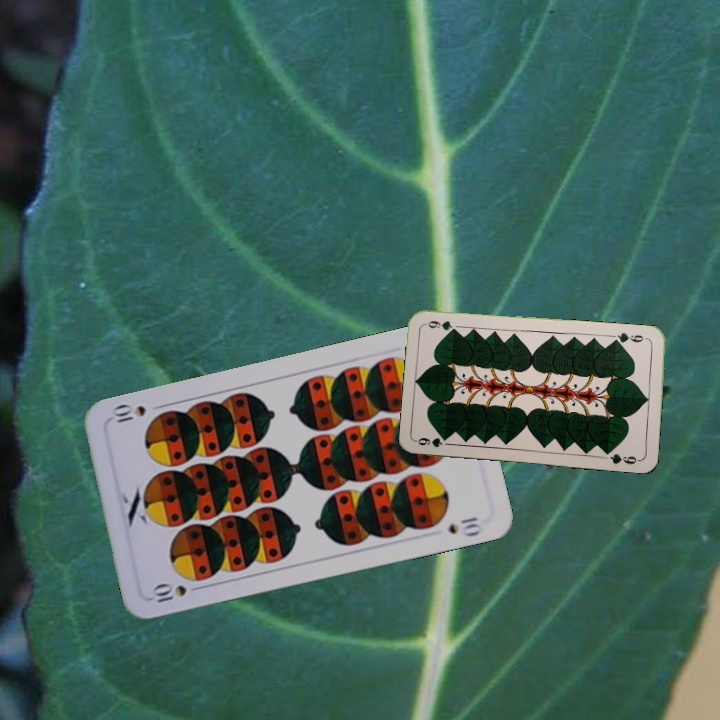G9: (610, 328, 651, 346), (413, 433, 445, 450)
S10: (147, 581, 206, 605)
